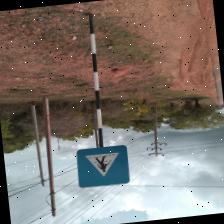blueboard: (74, 144, 131, 190)
